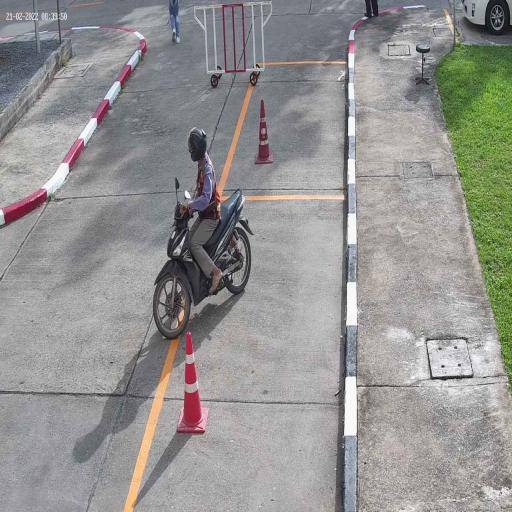motorcycle: (152, 193, 253, 341)
